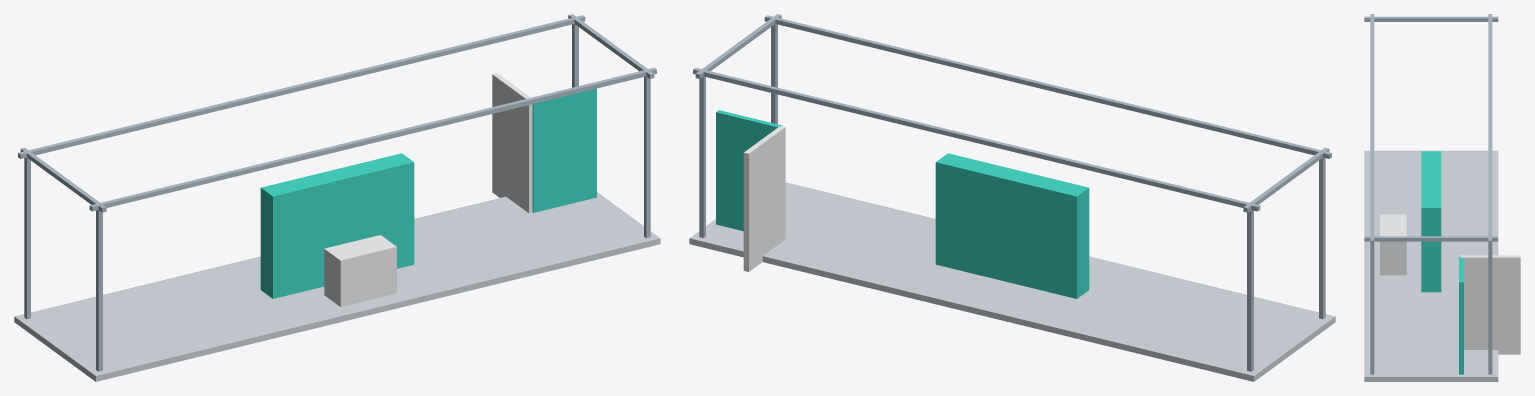
The picture shows the model from 3 angles, left to right: view 1: azimuth 30°, elevation 25°; view 2: azimuth 150°, elevation 25°; view 3: azimuth 270°, elevation 25°; orthographic projection. The views are drawn at different scales.
Visible parts, largest first — view 1: Exhibition Booth Concept; view 2: Exhibition Booth Concept; view 3: Exhibition Booth Concept.
Part boxes in pixels (x1,y1,x2,y2): Exhibition Booth Concept: (14, 14, 660, 381); Exhibition Booth Concept: (689, 14, 1335, 381); Exhibition Booth Concept: (1364, 14, 1520, 381).
Size of the model in its own units: 12 by 3.49 by 3.51.
